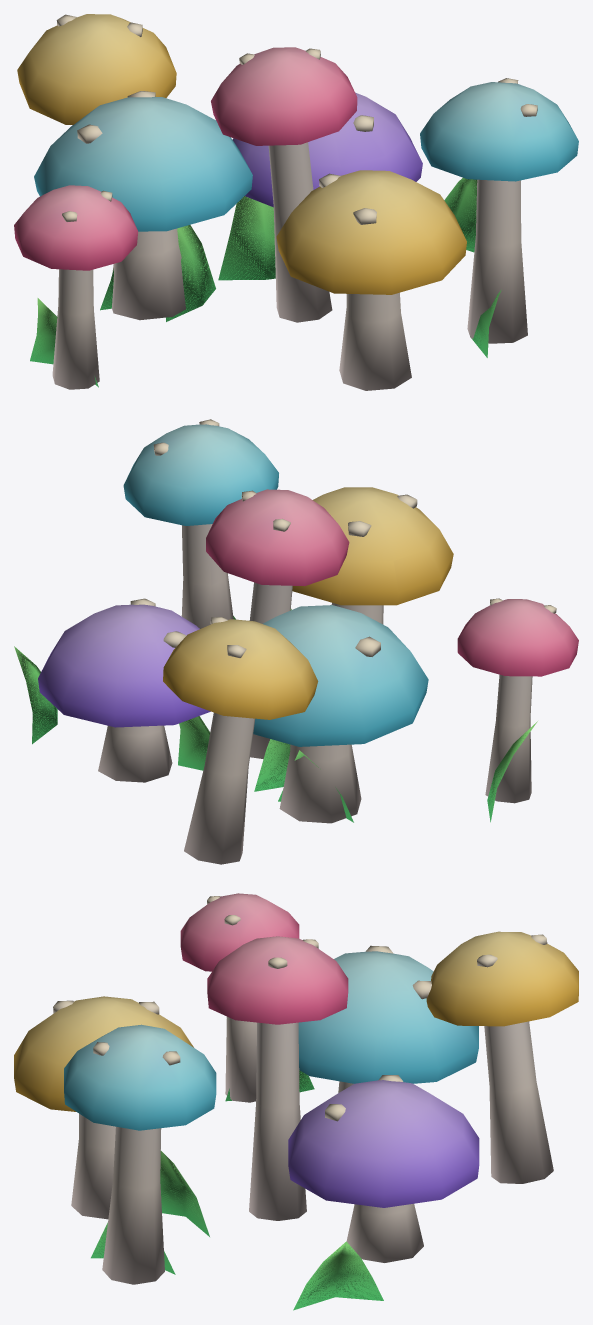
The model's file is verdant_ground_tiny_mushrooms.glb.
3 renders of one model, top to bottom at view 1: azimuth 30°, elevation 25°; view 2: azimuth 150°, elevation 25°; view 3: azimuth 270°, elevation 25°, orthographic. The views are drawn at different scales.
Visible parts, largest first — view 1: verdant_ground_tiny_mushrooms; view 2: verdant_ground_tiny_mushrooms; view 3: verdant_ground_tiny_mushrooms.
Boxes of the visible parts, x1=… form: verdant_ground_tiny_mushrooms: x1=14, y1=14, x2=578, y2=390; verdant_ground_tiny_mushrooms: x1=14, y1=419, x2=578, y2=864; verdant_ground_tiny_mushrooms: x1=14, y1=893, x2=578, y2=1310.
Bounding box in the file's own units: 0.7621 × 0.3734 × 0.7219.
